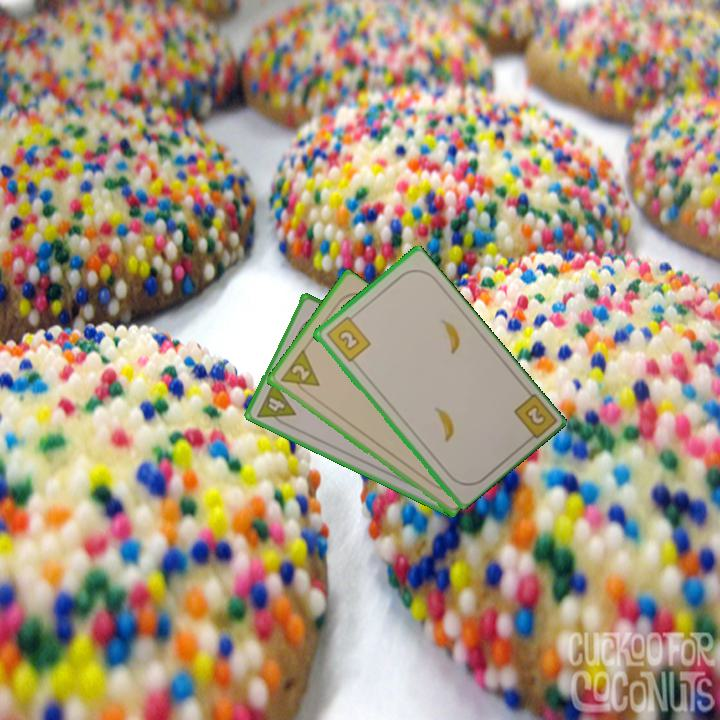2b: (322, 310, 373, 365), (510, 389, 557, 447)
2p: (276, 347, 322, 398)
4p: (253, 378, 299, 430)
